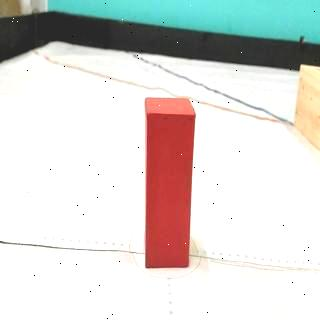redbox: (145, 97, 192, 267)
